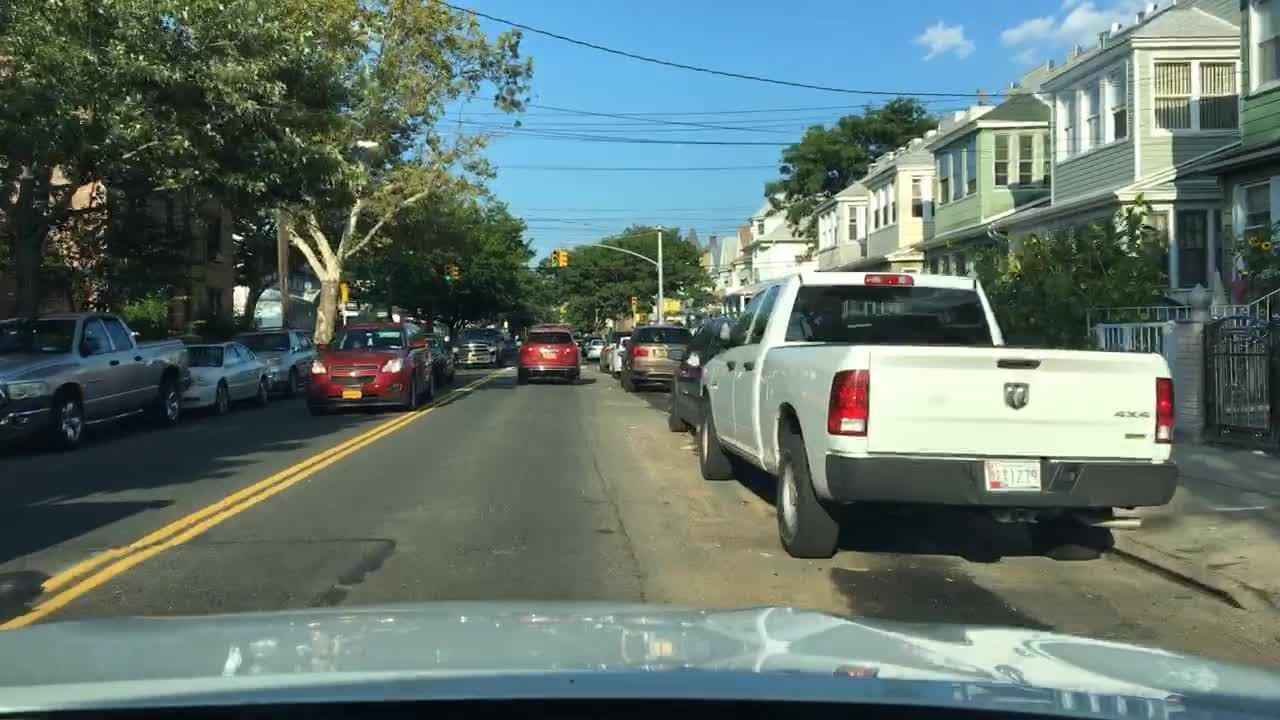ram: (1001, 380, 1032, 411)
